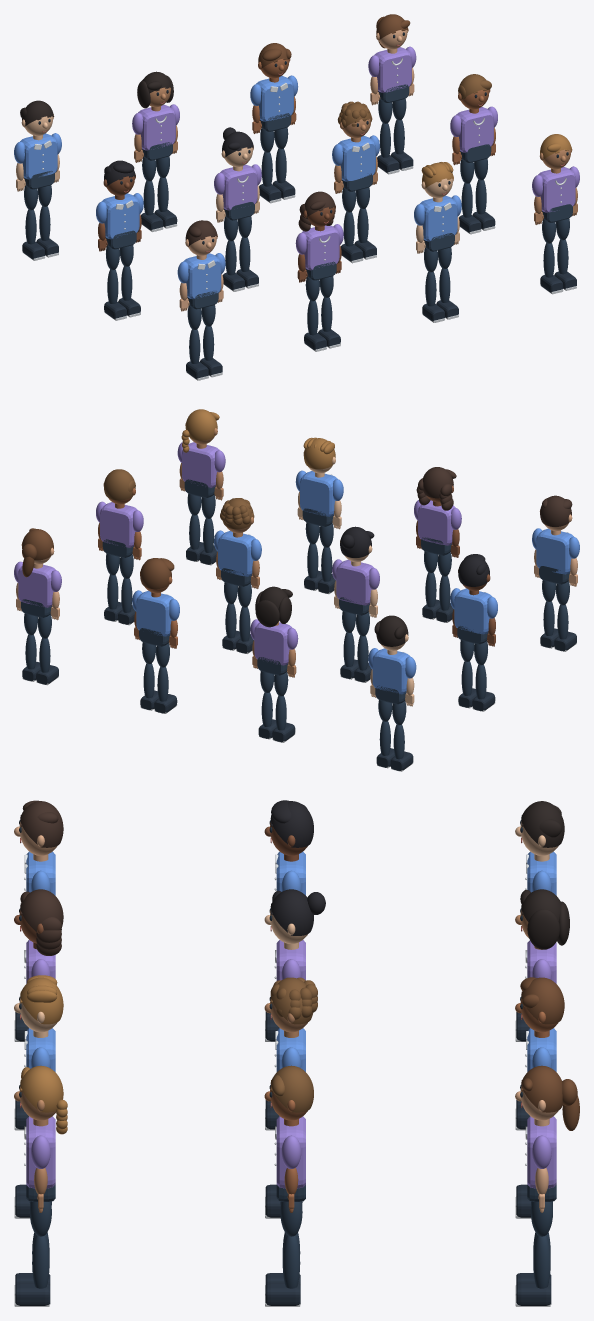
File: human-variants.glb
The picture shows the model from 3 angles, top to bottom: view 1: azimuth 30°, elevation 25°; view 2: azimuth 150°, elevation 25°; view 3: azimuth 270°, elevation 25°; orthographic projection. The views are drawn at different scales.
Visible parts, largest first — view 1: shirt-torso (×12), hairstyle-bob, continuous-scalp-hair; view 2: shirt-torso (×12), continuous-scalp-hair (×10), hairstyle-bob, hairstyle-curls, hairstyle-waves; view 3: continuous-scalp-hair (×12), shirt-torso (×11), right-knee-and-shin (×3), right-shoe (×3), hairstyle-bob, hairstyle-curls, hairstyle-ponytail, hairstyle-waves, right-thigh.
Part boxes in pixels (box(x1,y1,x2,y2)): shirt-torso (×12): box(20, 47, 575, 299); hairstyle-bob: box(137, 75, 173, 108); continuous-scalp-hair: box(22, 100, 53, 127); shirt-torso (×12): box(18, 442, 573, 694); continuous-scalp-hair (×10): box(22, 409, 571, 646); hairstyle-bob: box(255, 589, 292, 627); hairstyle-curls: box(220, 498, 254, 525); hairstyle-waves: box(416, 469, 456, 510); continuous-scalp-hair (×12): box(20, 801, 564, 1112); shirt-torso (×11): box(26, 851, 556, 1188); right-knee-and-shin (×3): box(32, 1235, 550, 1288); right-shoe (×3): box(14, 1283, 551, 1306); hairstyle-bob: box(520, 889, 569, 949); hairstyle-curls: box(270, 977, 317, 1019); hairstyle-ponytail: box(522, 1078, 579, 1130); hairstyle-waves: box(20, 891, 61, 955); right-thigh: box(280, 1201, 302, 1236).
Bounding box in the file's own units: 4.24 × 1.52 × 3.39.
